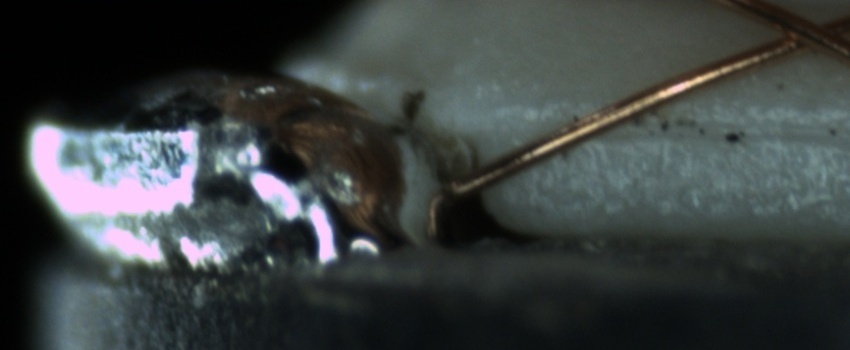CL: (754, 3, 845, 63)
DL: (528, 90, 848, 164)
